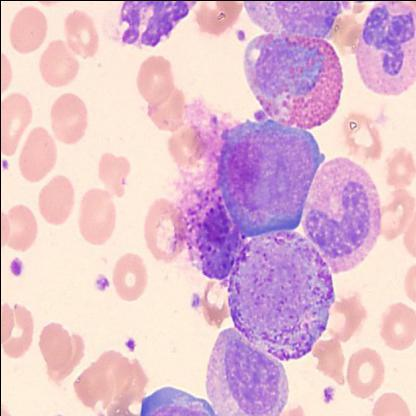Promyelocyte: (216, 116, 324, 238)
